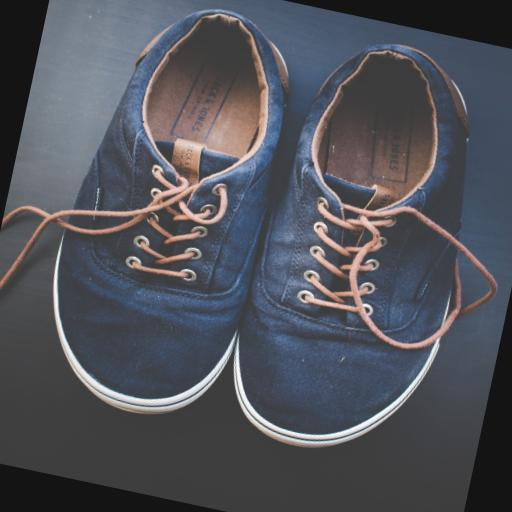shoe: (0, 10, 288, 413), (235, 45, 496, 446)
